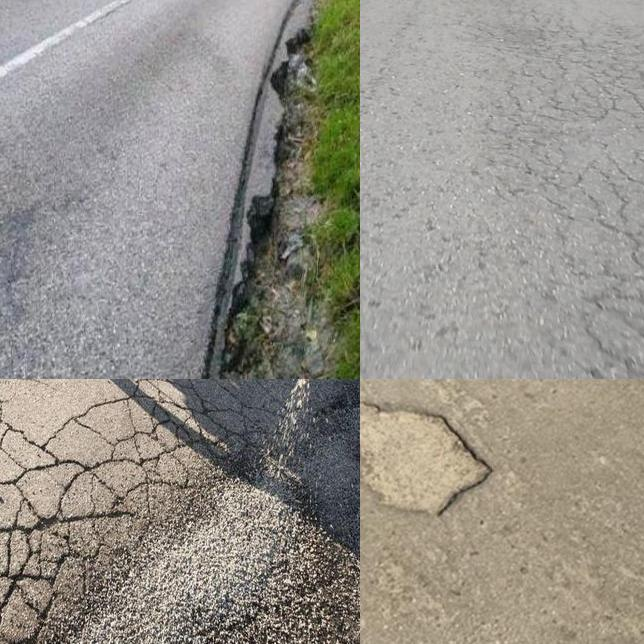Lubang: (360, 400, 495, 511)
Pinggir: (188, 0, 334, 379)
Retak Buaya: (464, 3, 644, 379), (0, 379, 251, 644)
